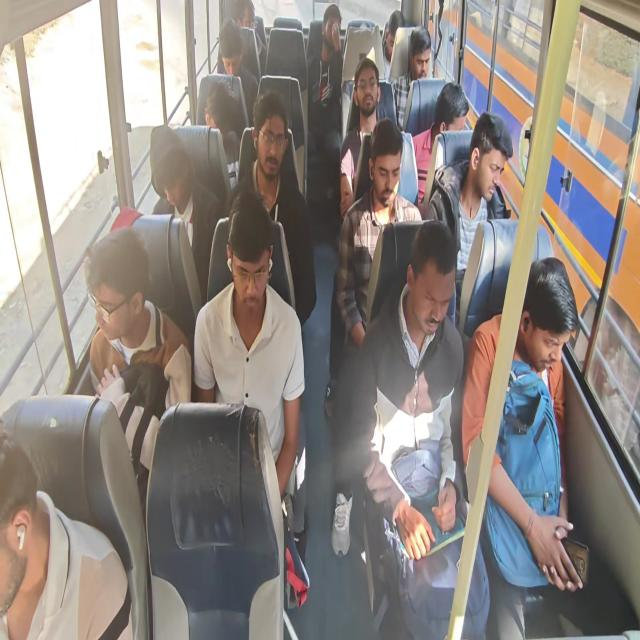person: (332, 219, 491, 638), (329, 117, 423, 557), (461, 255, 583, 593), (192, 189, 306, 503), (0, 425, 133, 638), (227, 89, 317, 326), (84, 225, 192, 416), (335, 117, 423, 351), (425, 110, 513, 327), (149, 123, 222, 306), (339, 57, 397, 219), (307, 4, 343, 211), (411, 81, 470, 207), (216, 18, 258, 126), (391, 26, 432, 130), (204, 80, 242, 187), (232, 0, 267, 80), (381, 10, 405, 80)
